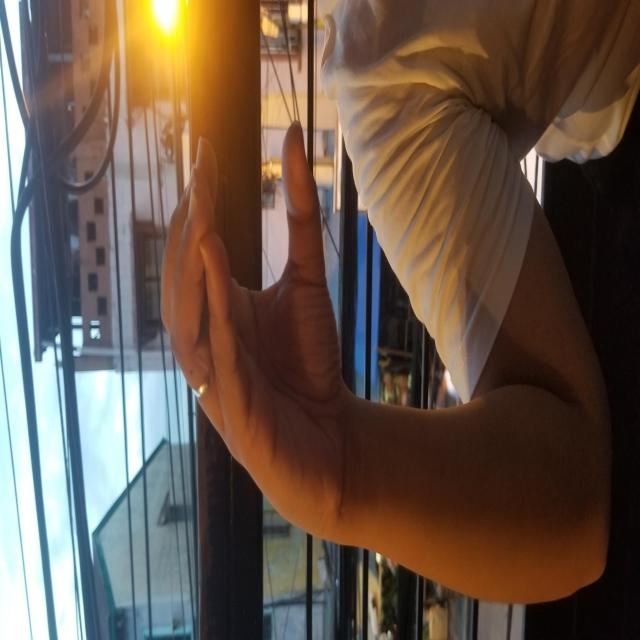C: (92, 159, 526, 346)
